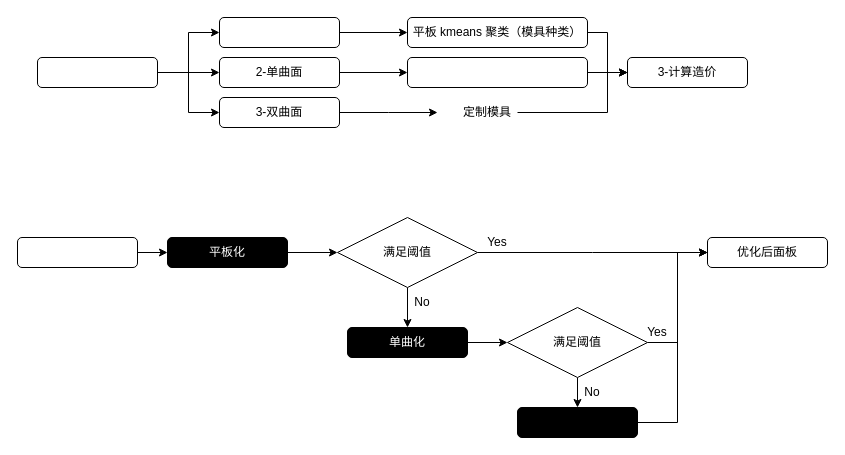
This 845x455 diagram has some shape labels left out. Each missing label, with the centre of its shape:
1-初步分类: the point at 97,72
1-平板: the point at 279,32
UV划分后面板输入: the point at 77,252
单曲 kmeans 聚类（模具种类）: the point at 497,72
双曲化: the point at 577,422
